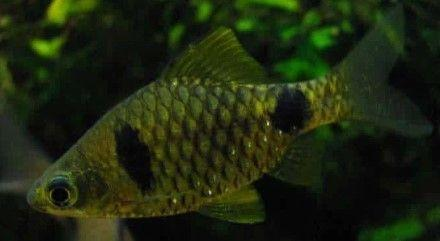Black Spotted Barb: (27, 4, 433, 234)
